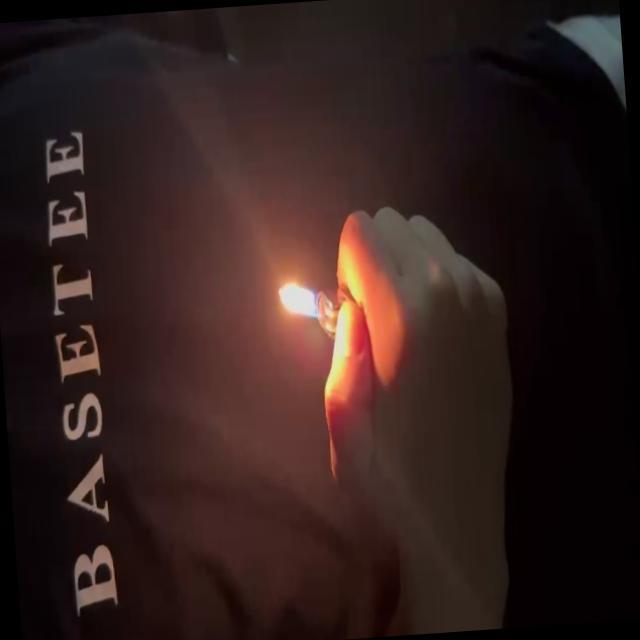Fire: (277, 277, 324, 323)
